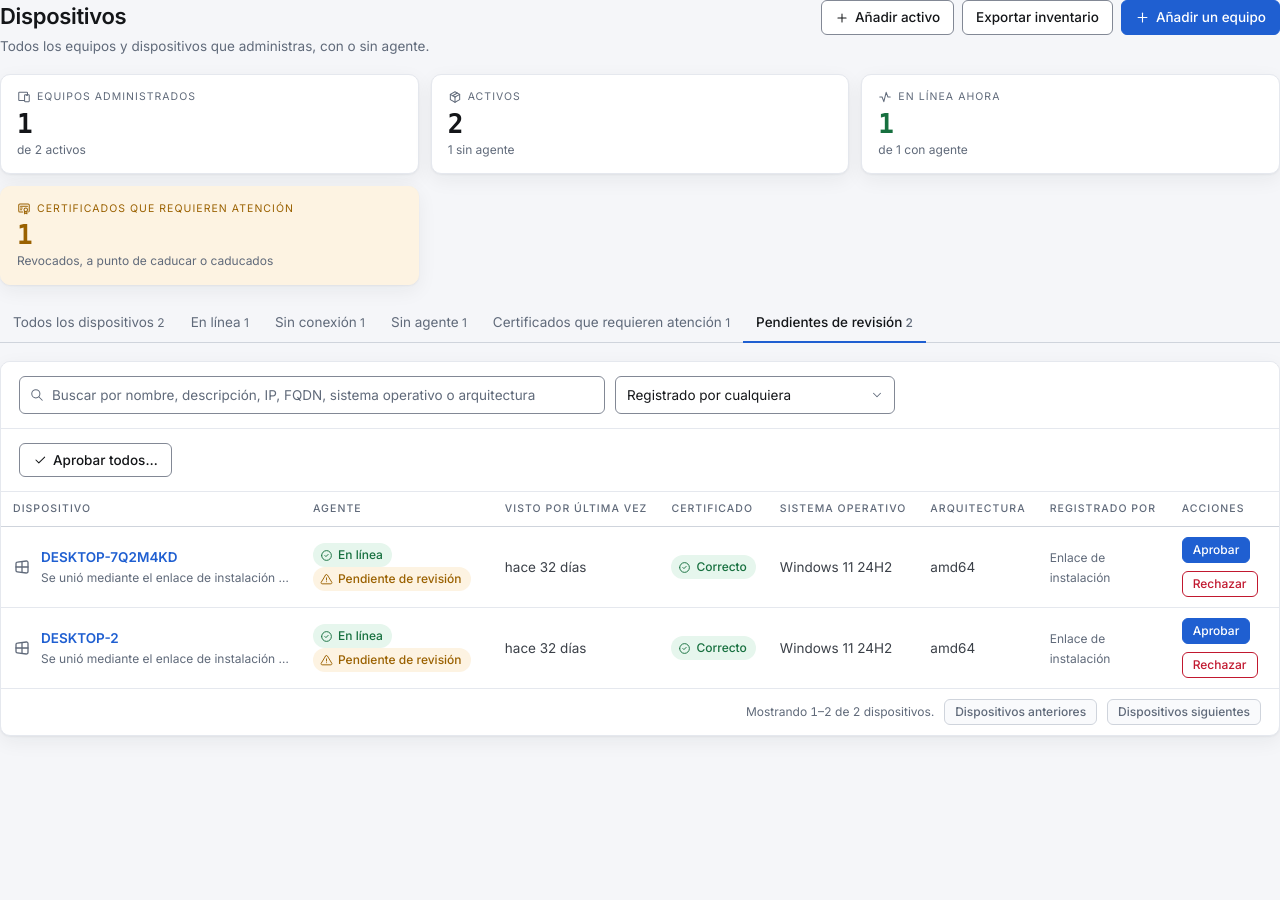
Test case: the devices page in Spanish › words the Approve all dialog and its result sentences
Step 1. Click the button "Aprobar todos…" → click(95, 460), box [19, 443, 172, 477]
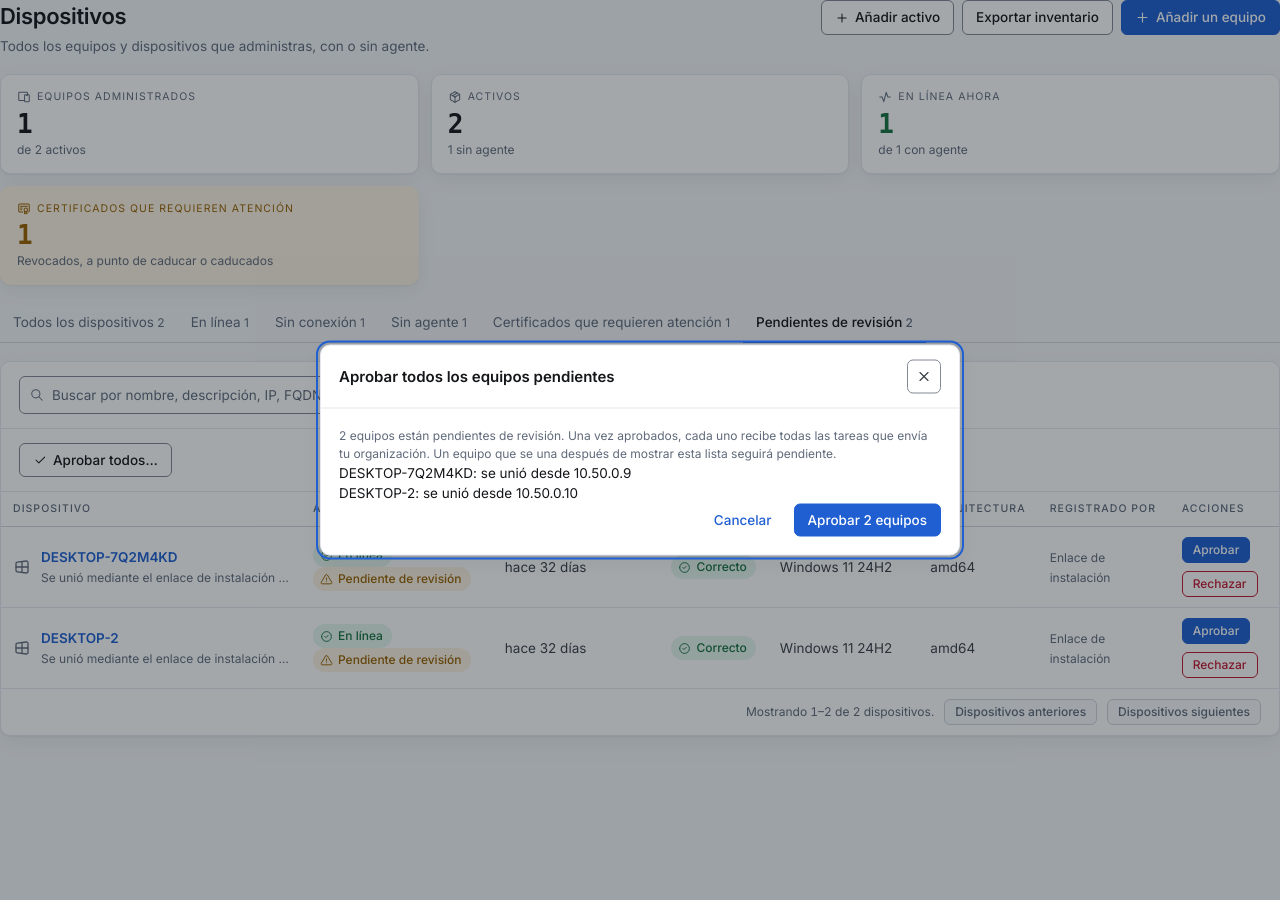
Expected: the text "2 equipos están pendientes de revisión." is shown, [339, 428, 928, 460]
Expected: the list named "Equipos que se van a aprobar" is shown, [339, 464, 631, 501]
Expected: the button "Aprobar 2 equipos" is shown, [794, 503, 941, 536]
